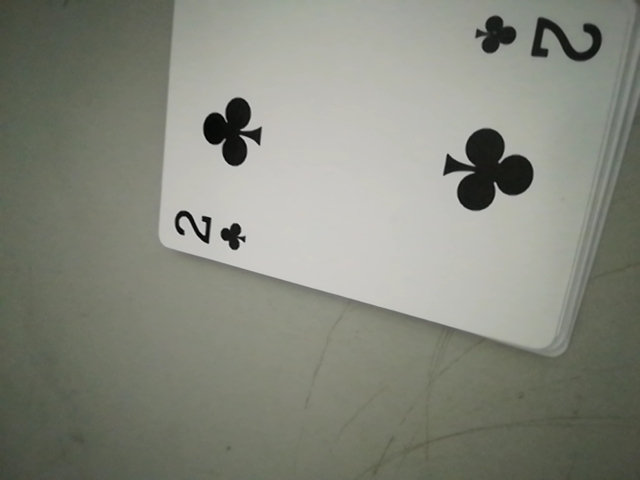mh 2: (471, 7, 605, 69), (168, 201, 255, 259)
